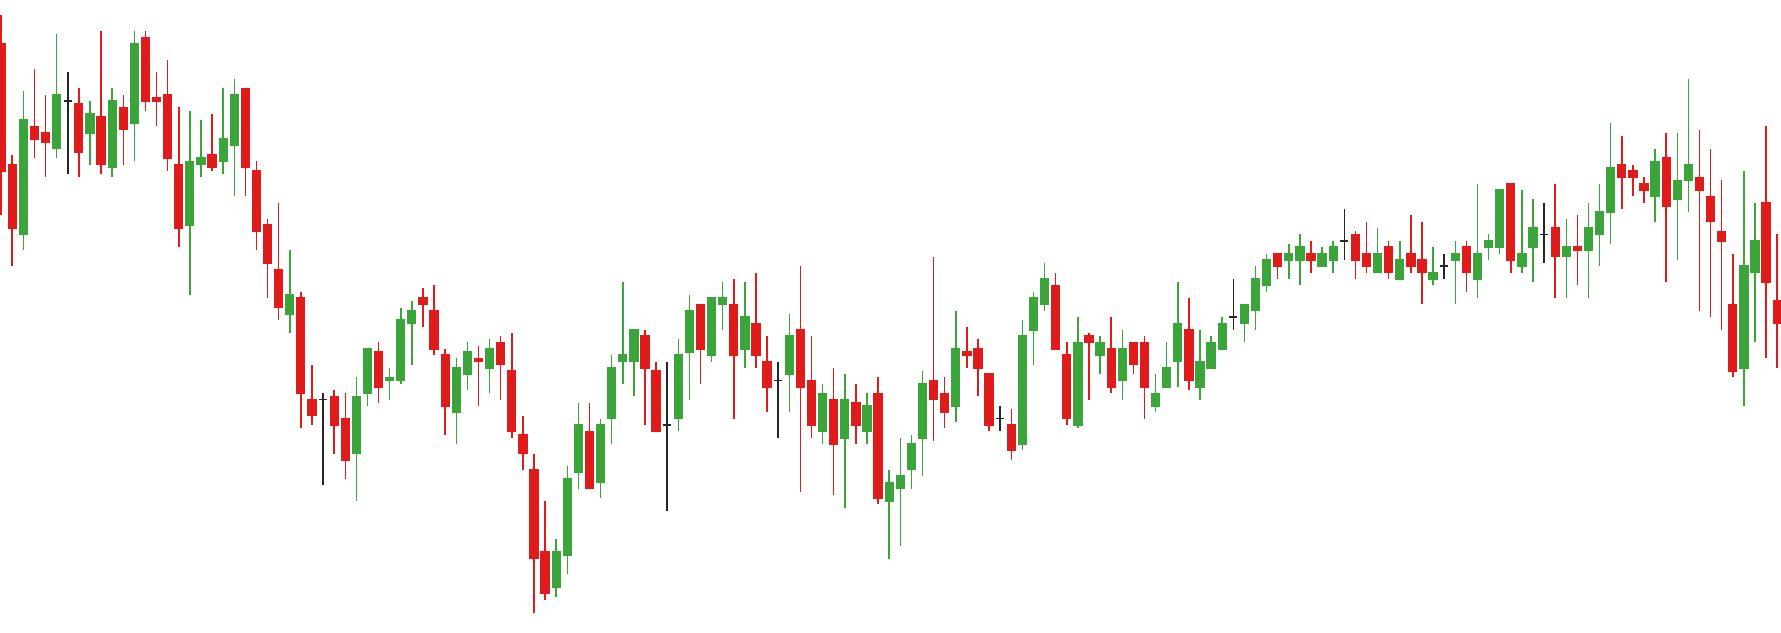buy: (349, 384, 572, 617)
